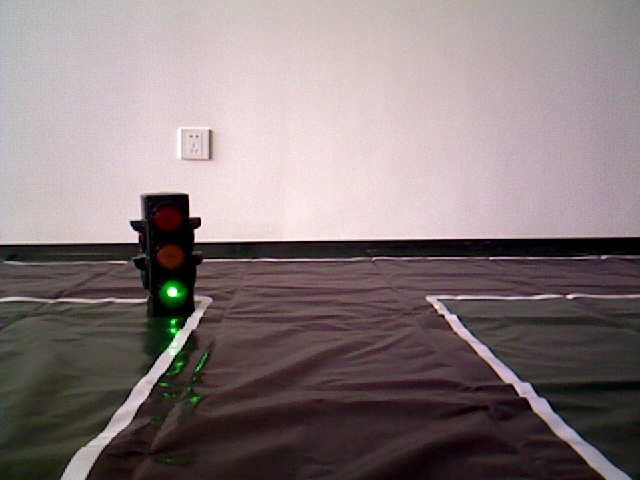green: (140, 198, 194, 306)
